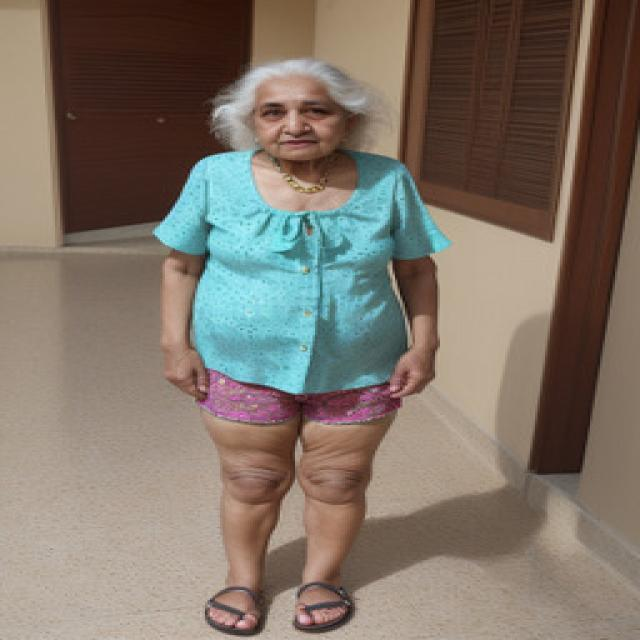Ai human 2: (148, 42, 463, 640)
